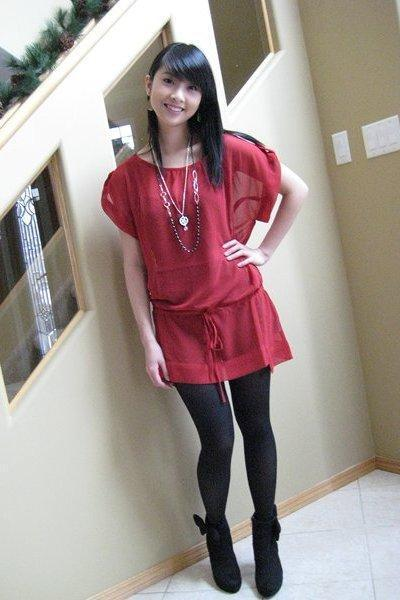dress: (101, 120, 292, 385)
shoe: (193, 516, 282, 599)
